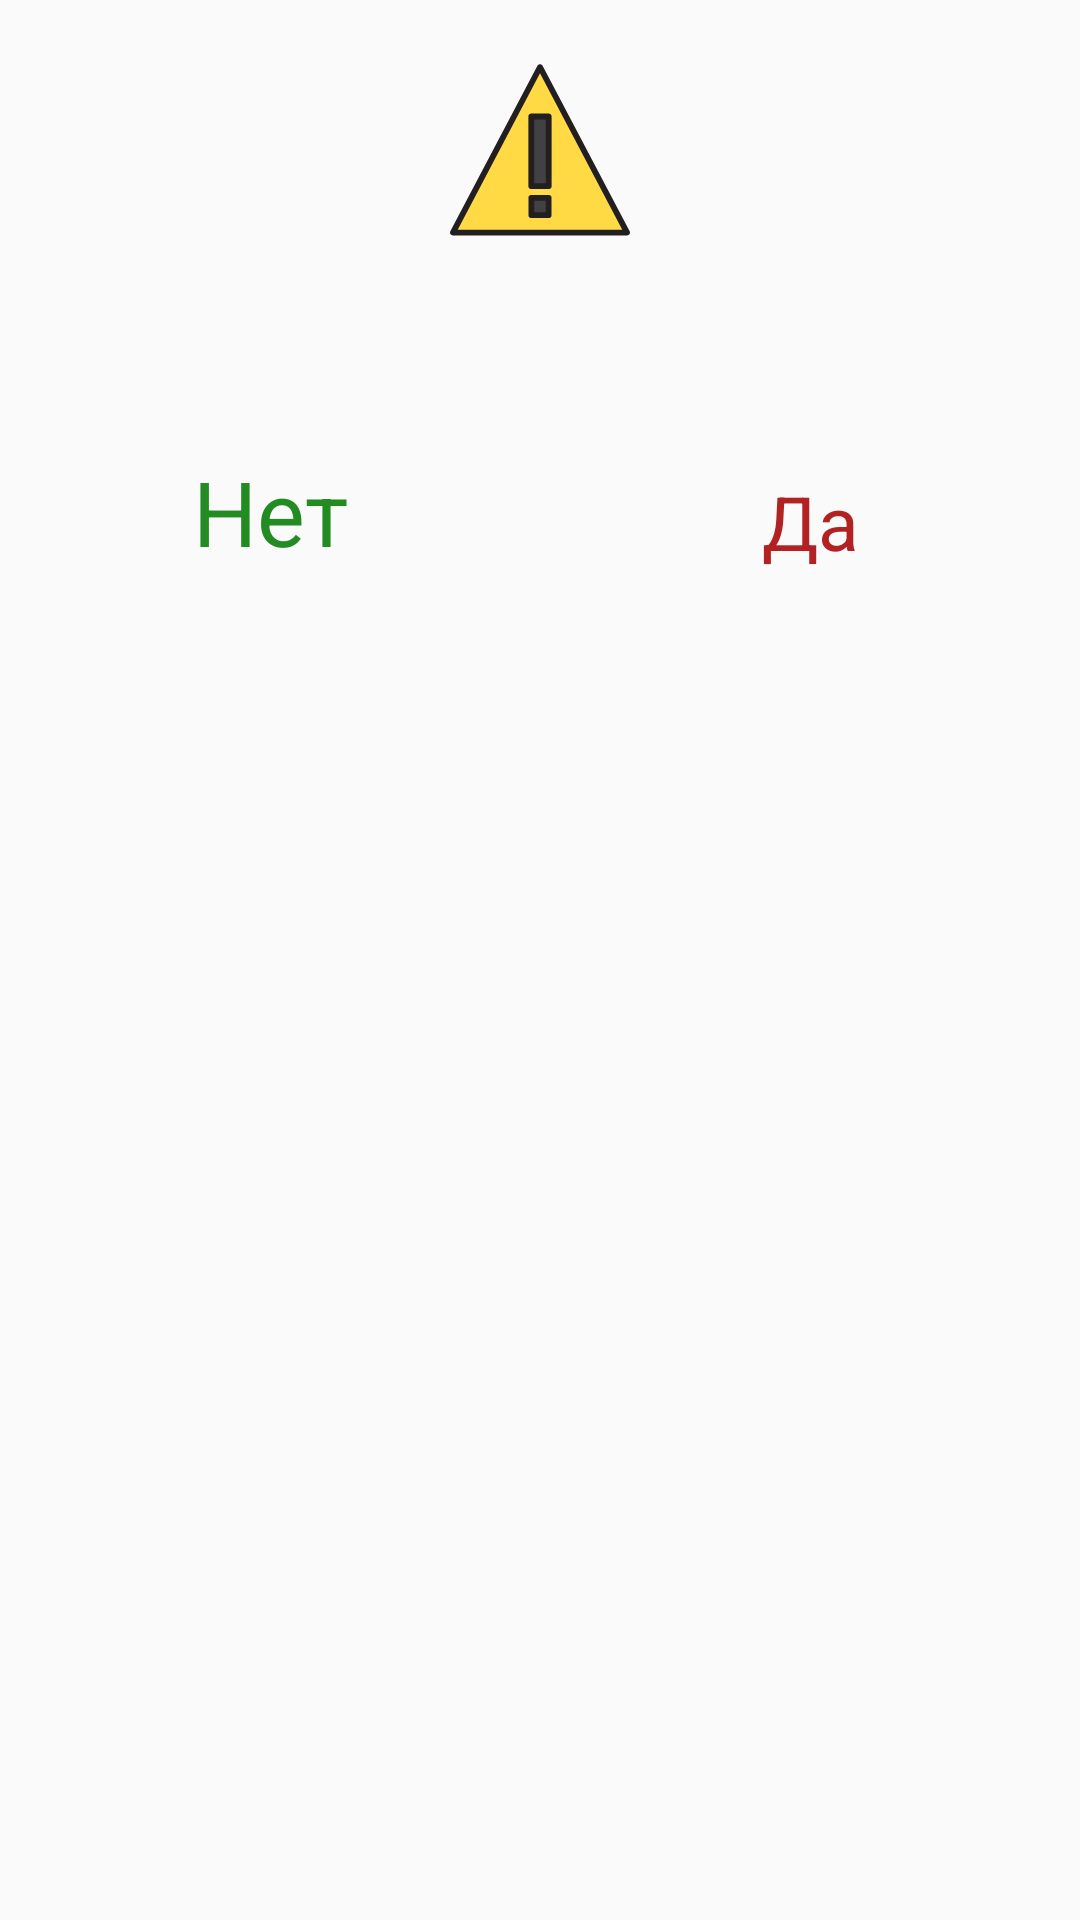

Locate icon controls on the screen. Image size 1080x1920, boxes as [x1,y1,x2,y2].
caution: [450,64,630,236]
